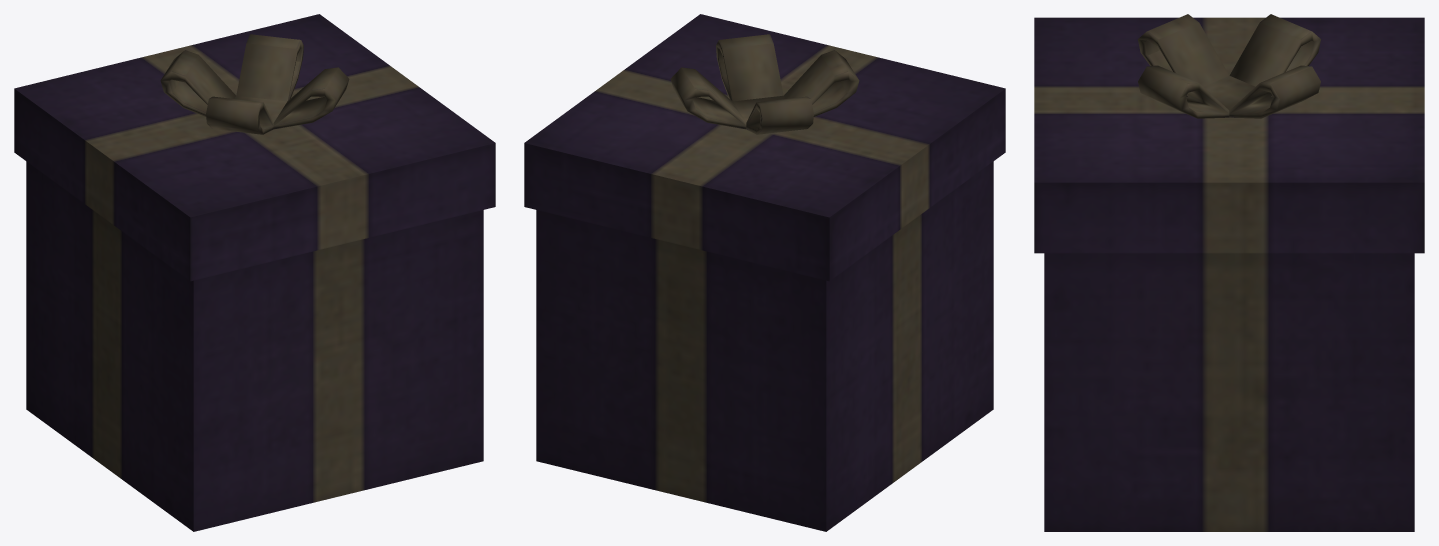
Rendered from gift_box_mx_1_3.obj.
The picture shows the model from 3 angles, left to right: view 1: azimuth 30°, elevation 25°; view 2: azimuth 150°, elevation 25°; view 3: azimuth 270°, elevation 25°; orthographic projection. The views are drawn at different scales.
Parts seen in each view (by area): view 1: gift_box_mx_1_3; view 2: gift_box_mx_1_3; view 3: gift_box_mx_1_3.
Part boxes in pixels (x1,y1,x2,y2): gift_box_mx_1_3: (14,14,495,531); gift_box_mx_1_3: (524,14,1005,531); gift_box_mx_1_3: (1034,14,1424,531).
Size of the model in its own units: 0.2 by 0.229 by 0.2.
